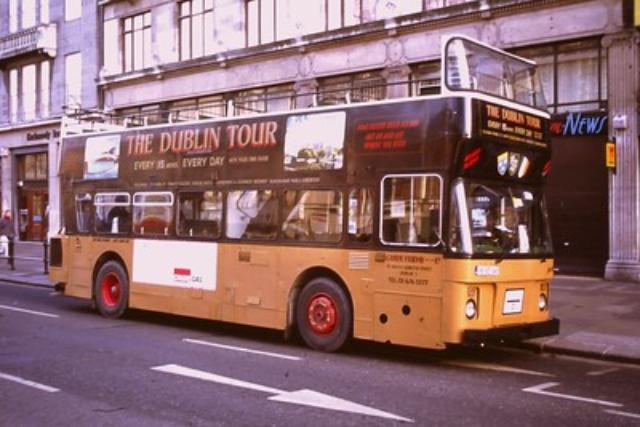bus: (46, 93, 558, 354)
